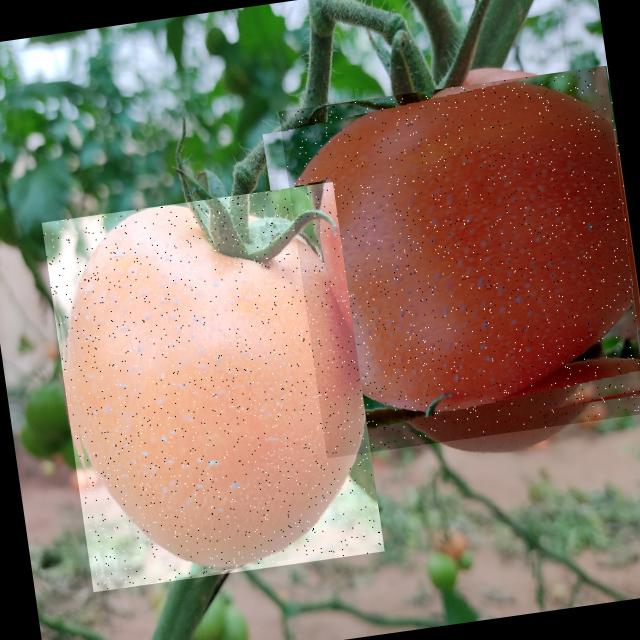Ripe Tomato: (279, 65, 640, 458), (42, 182, 385, 592)
